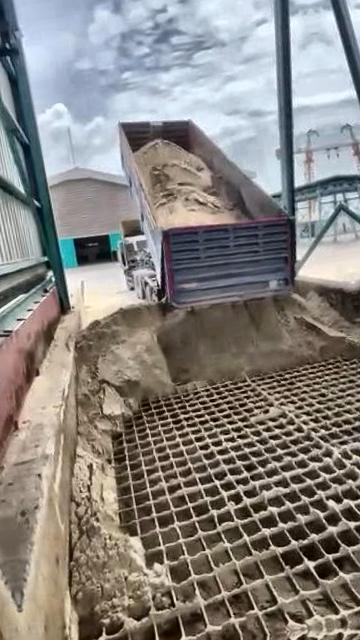sand: (71, 296, 360, 636), (136, 140, 245, 226)
